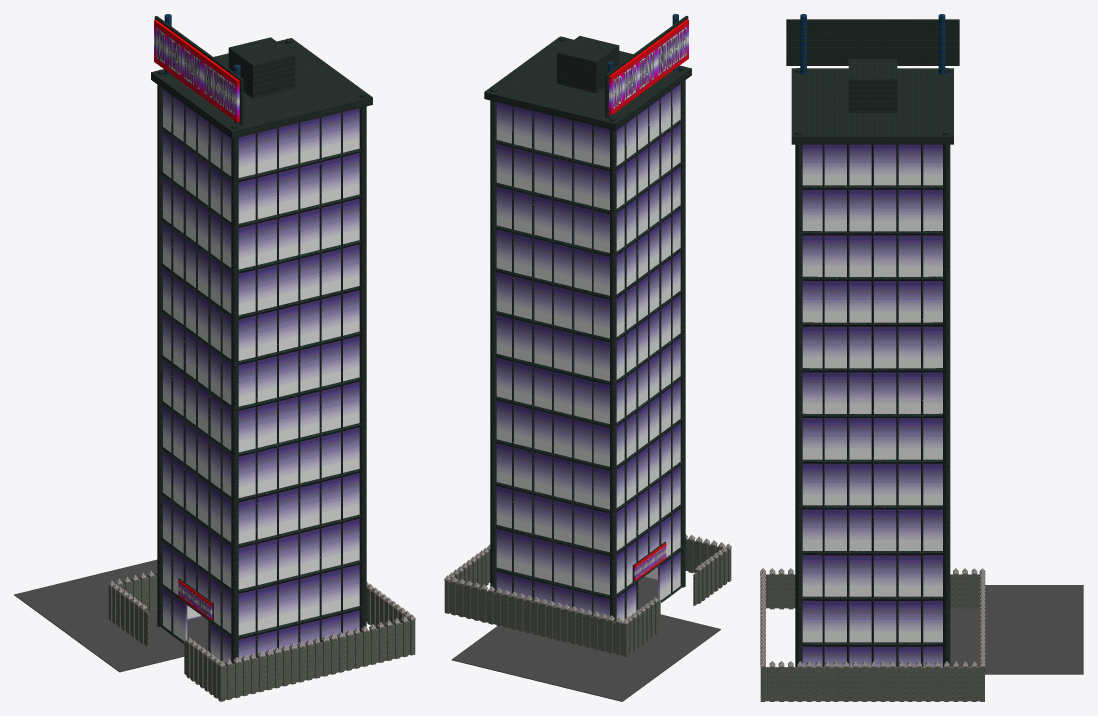
3 views of the same model, side by side, from view 1: azimuth 30°, elevation 25°; view 2: azimuth 150°, elevation 25°; view 3: azimuth 270°, elevation 25° (orthographic). The views are drawn at different scales.
Parts seen in each view (by area): view 1: GOD_HEAD_WINDOWS-COL, GOD_HEAD_WIRES-COL, 01_street_base_plate-COL.059, GOD_HEAD_DETAILS-COL, GOD_HEAD_CEELING-COL, 01_street_base_plate-COL.026, BIG_GOD_HEAD_SIGN-COL, GOD_HEAD_SIGN-COL; view 2: GOD_HEAD_WINDOWS-COL, GOD_HEAD_WIRES-COL, 01_street_base_plate-COL.059, 01_street_base_plate-COL.026, GOD_HEAD_DETAILS-COL, GOD_HEAD_CEELING-COL, BIG_GOD_HEAD_SIGN-COL, GOD_HEAD_SIGN-COL, GOD_HEAD_FLOOR-COL; view 3: GOD_HEAD_WINDOWS-COL, GOD_HEAD_WIRES-COL, GOD_HEAD_CEELING-COL, 01_street_base_plate-COL.059, 01_street_base_plate-COL.026, GOD_HEAD_DETAILS-COL, BIG_GOD_HEAD_SIGN-COL.
Part boxes in pixels (x1=…): GOD_HEAD_WINDOWS-COL: x1=163, y1=89, x2=359, y2=664; GOD_HEAD_WIRES-COL: x1=161, y1=95, x2=360, y2=660; 01_street_base_plate-COL.059: x1=108, y1=570, x2=415, y2=701; GOD_HEAD_DETAILS-COL: x1=157, y1=38, x2=366, y2=663; GOD_HEAD_CEELING-COL: x1=151, y1=37, x2=372, y2=138; 01_street_base_plate-COL.026: x1=14, y1=559, x2=184, y2=672; BIG_GOD_HEAD_SIGN-COL: x1=154, y1=14, x2=243, y2=125; GOD_HEAD_SIGN-COL: x1=178, y1=578, x2=213, y2=621; GOD_HEAD_WINDOWS-COL: x1=496, y1=84, x2=680, y2=622; GOD_HEAD_WIRES-COL: x1=495, y1=90, x2=682, y2=619; 01_street_base_plate-COL.059: x1=444, y1=534, x2=731, y2=656; 01_street_base_plate-COL.026: x1=451, y1=614, x2=720, y2=701; GOD_HEAD_DETAILS-COL: x1=490, y1=37, x2=685, y2=621; GOD_HEAD_CEELING-COL: x1=484, y1=36, x2=691, y2=130; BIG_GOD_HEAD_SIGN-COL: x1=605, y1=14, x2=688, y2=118; GOD_HEAD_SIGN-COL: x1=632, y1=541, x2=666, y2=582; GOD_HEAD_FLOOR-COL: x1=638, y1=577, x2=657, y2=609; GOD_HEAD_WINDOWS-COL: x1=802, y1=144, x2=942, y2=666; GOD_HEAD_WIRES-COL: x1=802, y1=144, x2=943, y2=666; GOD_HEAD_CEELING-COL: x1=791, y1=59, x2=953, y2=144; 01_street_base_plate-COL.059: x1=760, y1=568, x2=985, y2=701; 01_street_base_plate-COL.026: x1=950, y1=585, x2=1083, y2=674; GOD_HEAD_DETAILS-COL: x1=795, y1=68, x2=950, y2=666; BIG_GOD_HEAD_SIGN-COL: x1=786, y1=14, x2=959, y2=75.
Size of the model in its own units: 336 by 818 by 393.
Materials: 7 (6 with a texture image).
